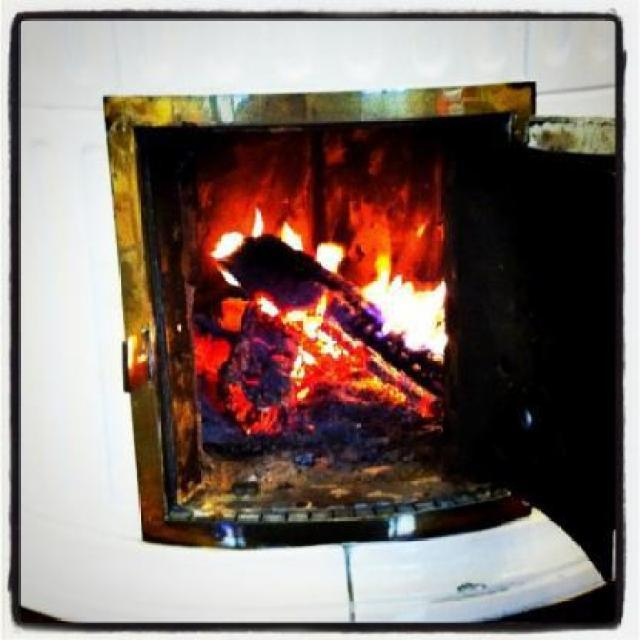Fire: (188, 173, 450, 430), (363, 249, 454, 362), (279, 288, 340, 363), (206, 225, 245, 258), (277, 218, 306, 257), (317, 240, 342, 271), (253, 206, 263, 239), (256, 300, 279, 314)
